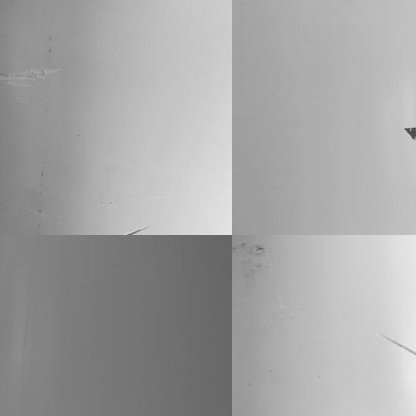kongdong: (401, 125, 416, 138)
sunshang: (2, 65, 60, 101), (378, 329, 416, 361)
